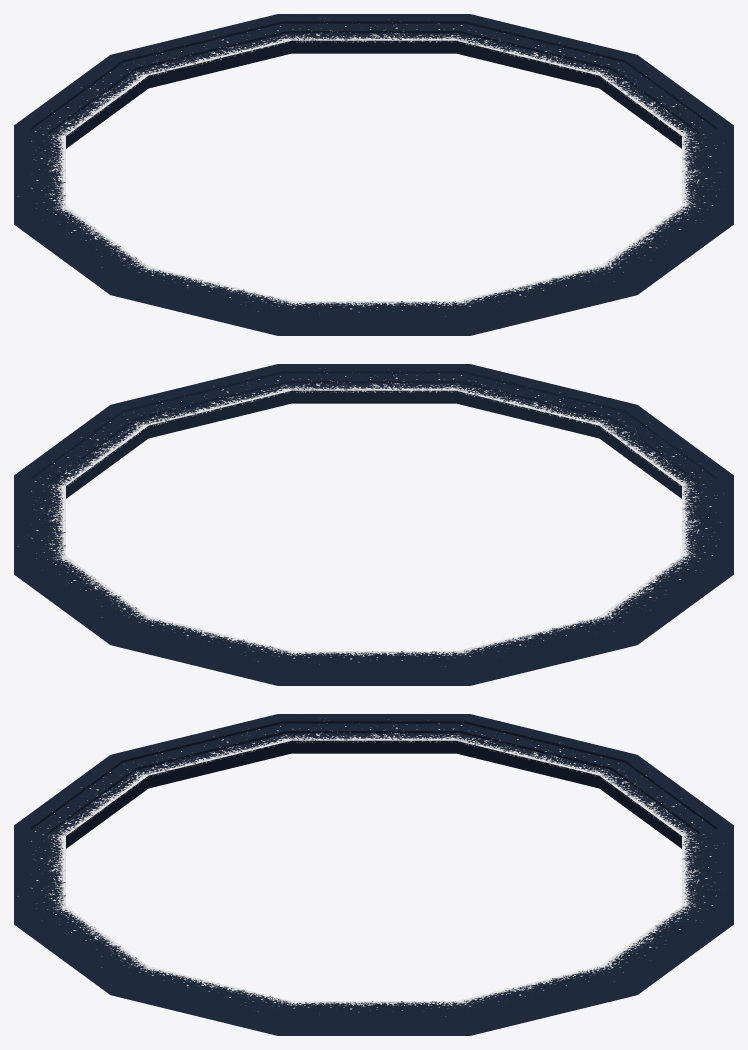
The model's file is stage05_stairs.FBX.
3 views of the same model, one above another, from view 1: azimuth 30°, elevation 25°; view 2: azimuth 150°, elevation 25°; view 3: azimuth 270°, elevation 25° (orthographic).
Parts seen in each view (by area): view 1: Object007; view 2: Object007; view 3: Object007.
Part boxes in pixels (x1,y1,x2,y2): Object007: (14,14,733,335); Object007: (14,364,733,685); Object007: (14,714,733,1035).
Size of the model in its own units: 1103 by 29.68 by 1103.
Materials: 1 (1 with a texture image).
